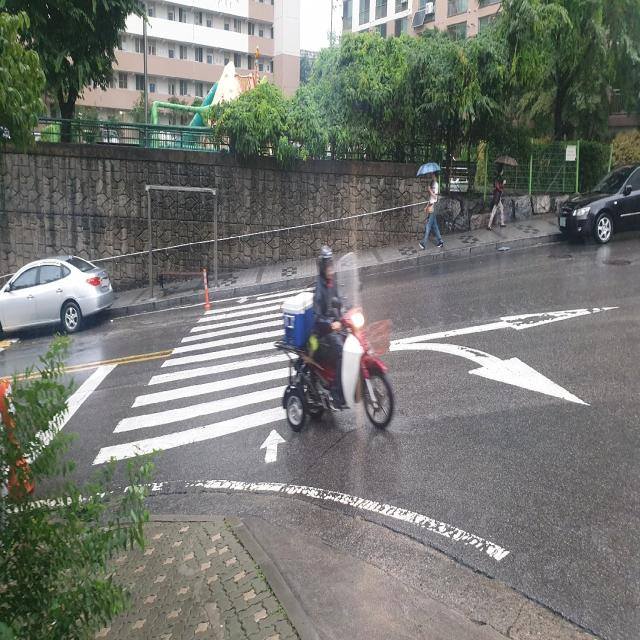car: (0, 255, 114, 341), (557, 163, 640, 244)
motorbike: (276, 288, 396, 431)
